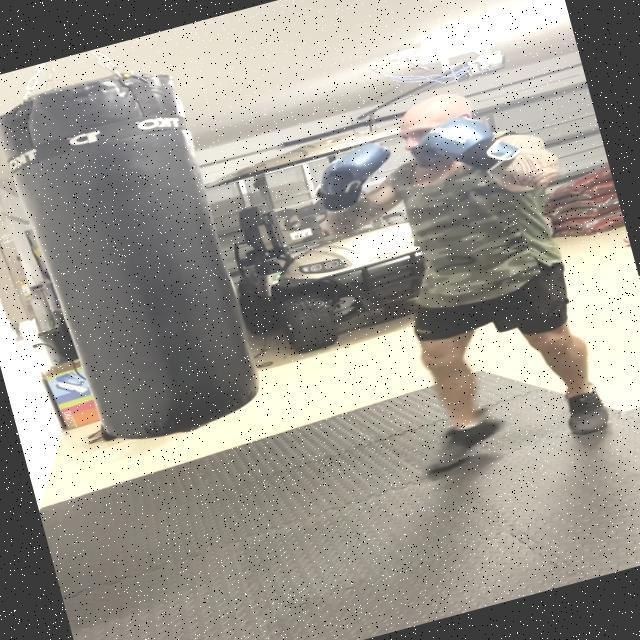bag: (0, 53, 275, 461)
no punch: (292, 68, 560, 250)
